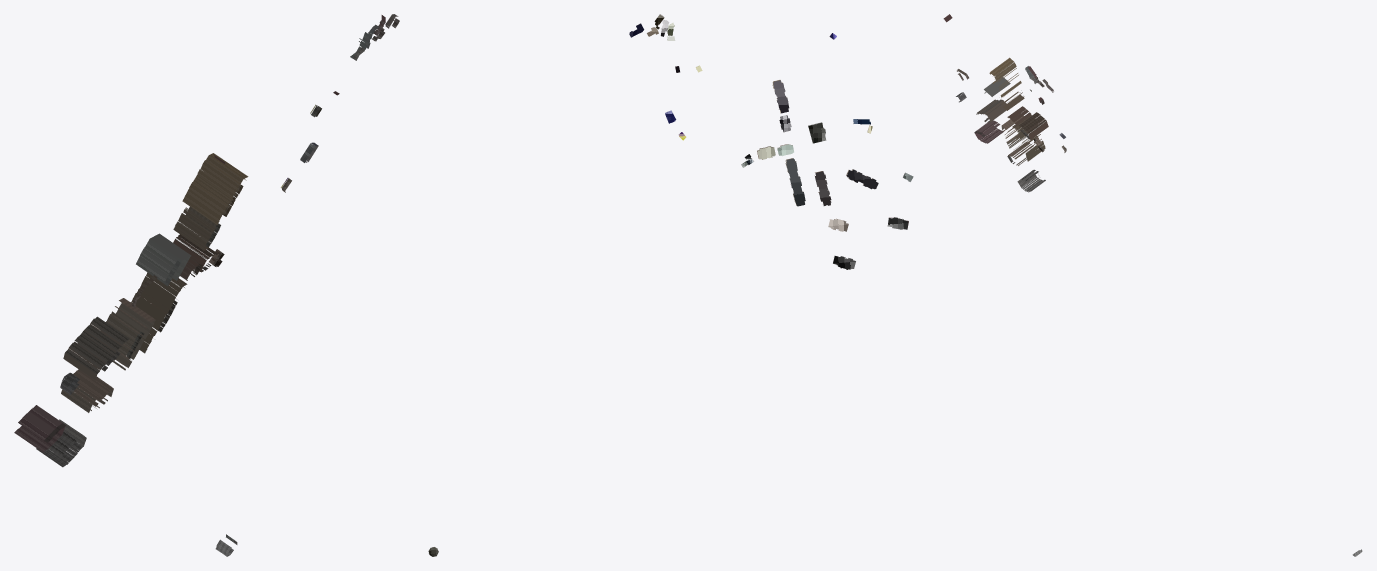
Rendered from tile_LOD2_r1_c0.glb.
3 views of the same model, side by side, from view 1: azimuth 30°, elevation 25°; view 2: azimuth 150°, elevation 25°; view 3: azimuth 270°, elevation 25° (orthographic). The views are drawn at different scales.
Bounding box in the file's own units: 443 × 619 × 516.
113 materials, 107 textured.
